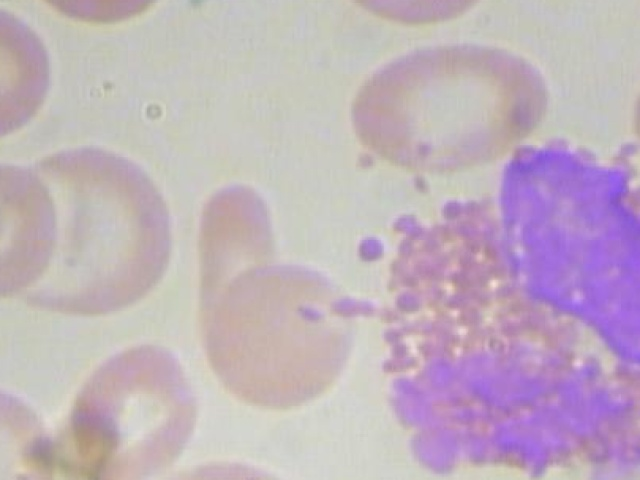RBC: (0, 135, 179, 325), (318, 40, 555, 178), (206, 258, 366, 417), (55, 330, 193, 480), (193, 159, 279, 359), (0, 0, 72, 149), (0, 160, 57, 300), (11, 0, 196, 36), (0, 376, 62, 480), (322, 0, 508, 26), (128, 459, 331, 480), (626, 61, 640, 242)
WBC: (288, 127, 640, 480)
